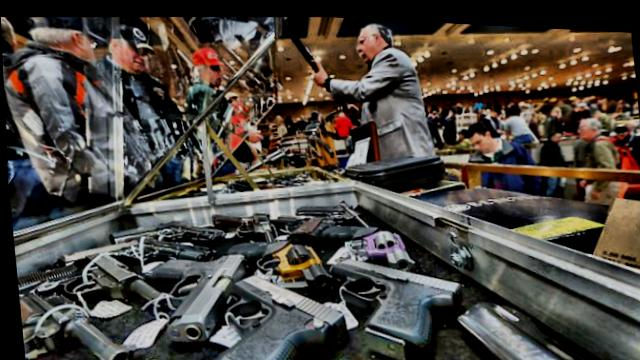pistol: (323, 243, 467, 360), (195, 262, 348, 360), (142, 247, 253, 344), (15, 281, 127, 360), (313, 212, 416, 275), (222, 231, 328, 287), (84, 210, 227, 250)
